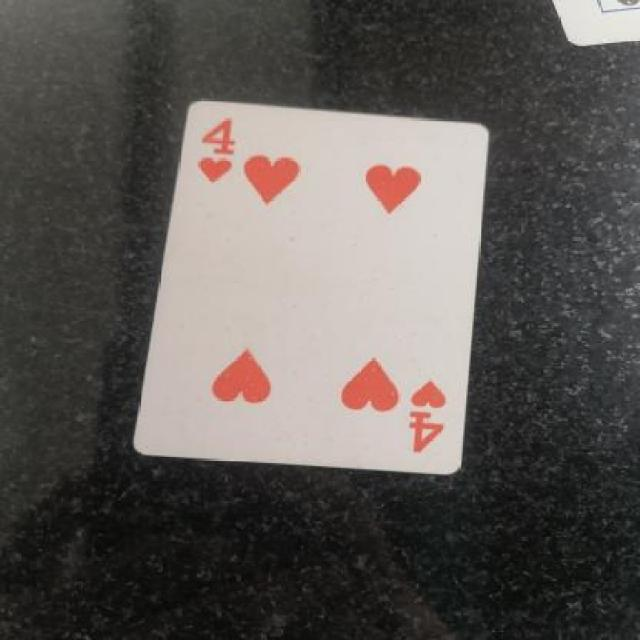4H: (177, 101, 268, 197), (406, 351, 460, 471)
